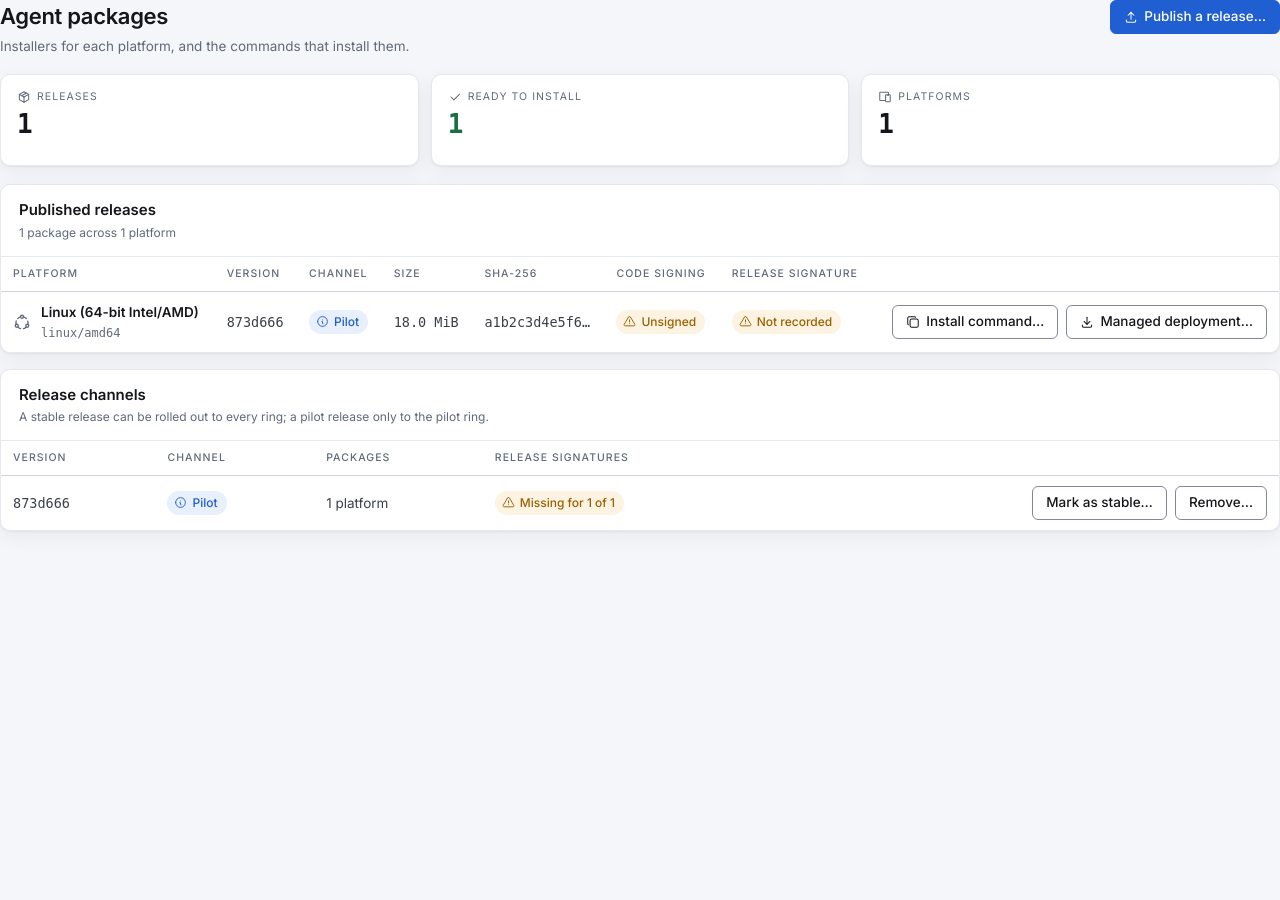
it: AgentReleasesPage › gives a publisher the publish button in the page head and the channel controls
Expected: the element named "publish a release" is shown, [0, 0, 1279, 56]
Expected: the button "Mark as stable…" is shown, [1032, 486, 1167, 520]
Click the button "Publish a release…" at (1195, 17), box [1110, 0, 1279, 34]
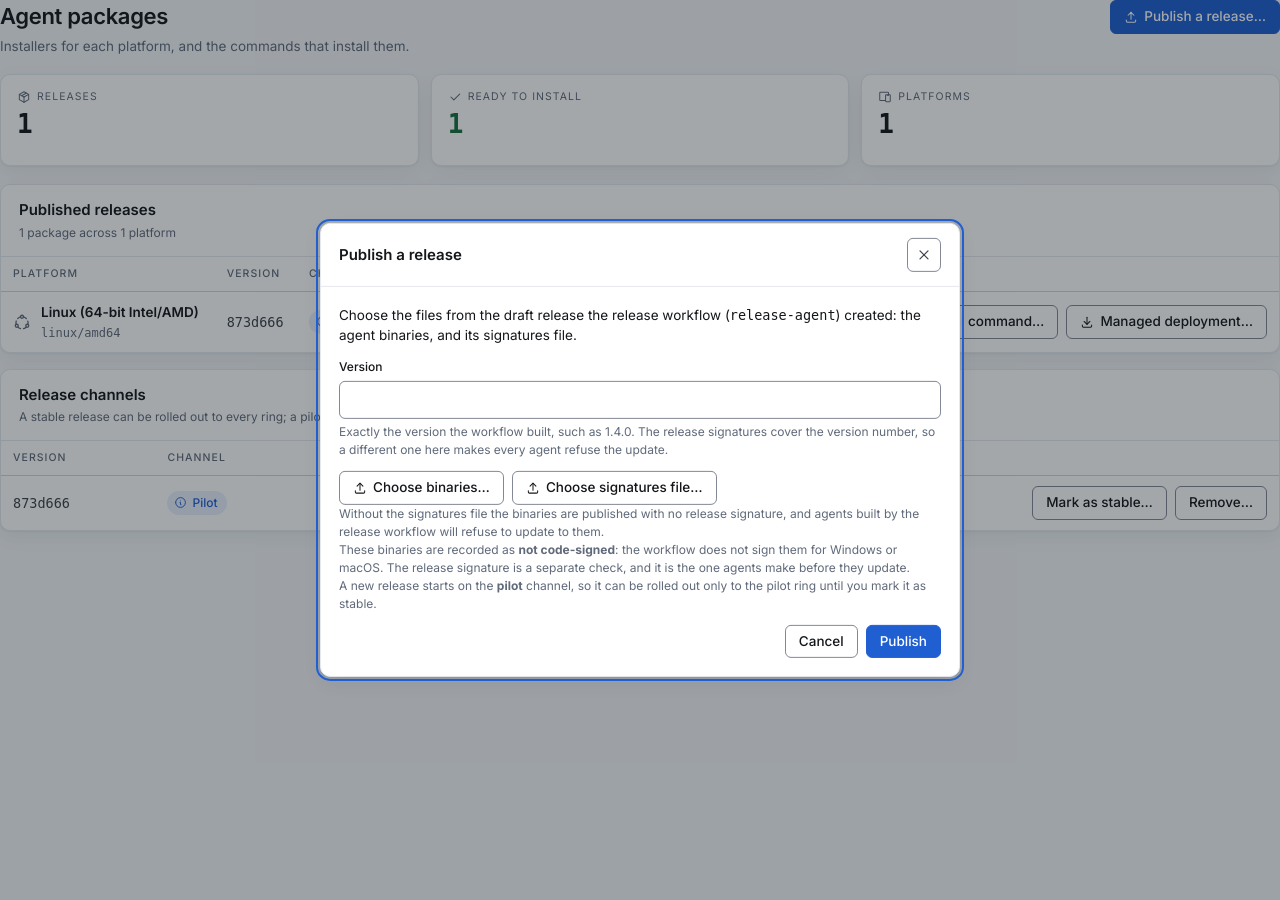
Now the dialog "Publish a release" is shown, box [320, 223, 960, 677]
